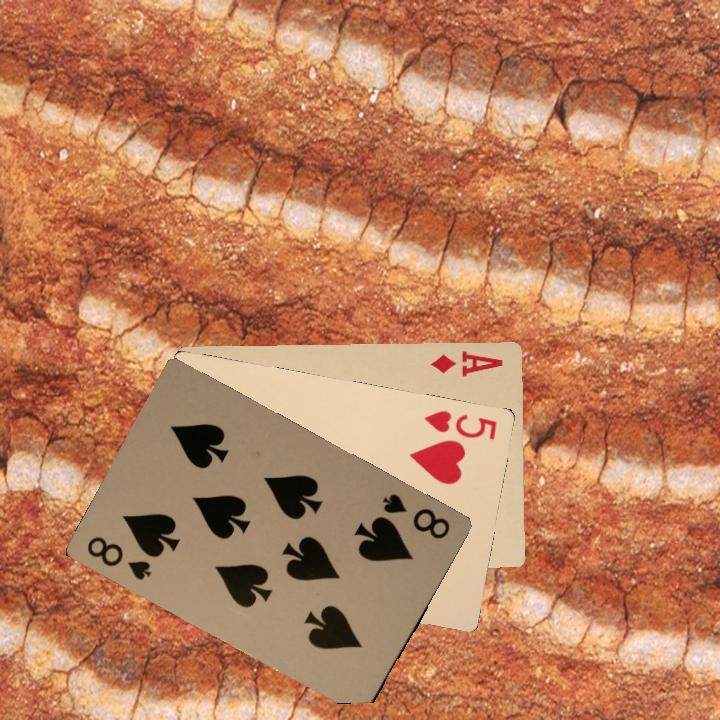5h: (420, 406, 500, 443)
8s: (378, 489, 453, 542), (83, 532, 155, 583)
Ad: (428, 347, 505, 379)
